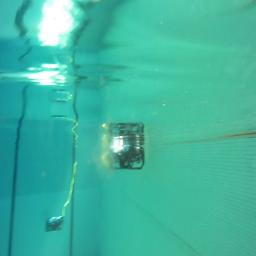front: (102, 144, 146, 172), (45, 215, 64, 231)
